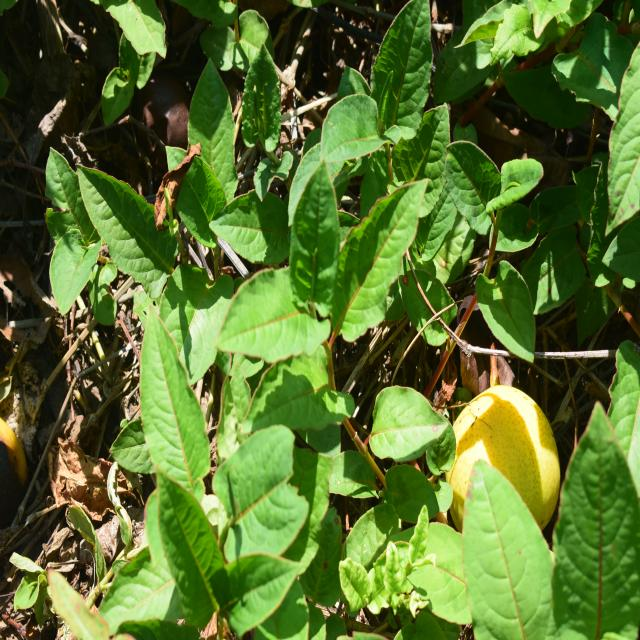Chinese_knotweed: (209, 148, 446, 466)
